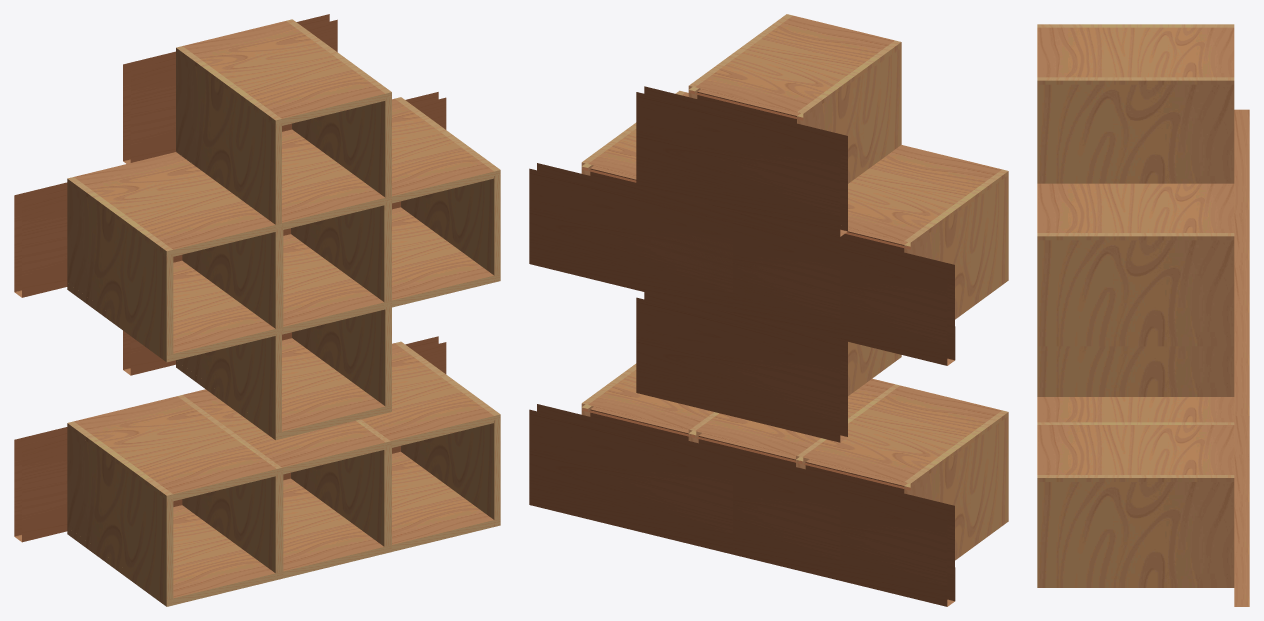
The model's file is layout_plusminus_shape_c11.fbx.
3 renders of one model, left to right at view 1: azimuth 30°, elevation 25°; view 2: azimuth 150°, elevation 25°; view 3: azimuth 270°, elevation 25°, orthographic.
Parts seen in each view (by area): view 1: Shelf-TM-00 5, Shelf-TM-00 6, Shelf-TM-00 7, Shelf-CL-01 6, Shelf-CL-01 7, Shelf-CL-01 5, Shelf-TM-00, Shelf-Back-00 (1) 5, Shelf-BM-00 3, Shelf-BM-00 7, Shelf-BM-00 6, Shelf-TM-00 1 (+35 smaller); view 2: Shelf-Back-00 (1) 5, Shelf-Back-00 (1) 3, Shelf-Back-00 (1) 1, Shelf-Back-00 (1), Shelf-Back-00 (1) 4, Shelf-Back-00 (1) 7, Shelf-Back-00 (1) 6, Shelf-Back-00 (1) 2, Shelf-TM-00 5, Shelf-TM-00 6, Shelf-TM-00 7, Shelf-CL-01 6 (+14 smaller); view 3: Shelf-CR-01 1, Shelf-CR-01 5, Shelf-CR-01, Shelf-TM-00 5, Shelf-TM-00, Shelf-TM-00 1, Shelf-CR-01 3, Shelf-TM-00 2, Shelf-Back-00 (1) 5, Shelf-CR-00 (1) 5, Shelf-CR-00 1, Shelf-CR-00 (1) 1 (+12 smaller).
Part boxes in pixels (<box>): Shelf-TM-00 5: <box>183,21,385,125</box>; Shelf-TM-00 6: <box>74,396,275,501</box>; Shelf-TM-00 7: <box>74,152,275,256</box>; Shelf-CL-01 6: <box>67,427,173,599</box>; Shelf-CL-01 7: <box>67,183,173,355</box>; Shelf-CL-01 5: <box>176,52,281,224</box>; Shelf-TM-00: <box>361,343,493,447</box>; Shelf-Back-00 (1) 5: <box>123,14,337,163</box>; Shelf-BM-00 3: <box>282,338,385,438</box>; Shelf-BM-00 7: <box>173,260,275,360</box>; Shelf-BM-00 6: <box>173,505,275,605</box>; Shelf-TM-00 1: <box>392,98,493,203</box>; Shelf-Back-00 (1) 5: <box>636,86,847,236</box>; Shelf-Back-00 (1) 3: <box>636,292,847,442</box>; Shelf-Back-00 (1) 1: <box>529,163,740,313</box>; Shelf-Back-00 (1): <box>529,404,740,554</box>; Shelf-Back-00 (1) 4: <box>636,189,847,339</box>; Shelf-Back-00 (1) 7: <box>743,215,955,365</box>; Shelf-Back-00 (1) 6: <box>751,456,955,606</box>; Shelf-Back-00 (1) 2: <box>639,430,847,580</box>; Shelf-TM-00 5: <box>695,15,894,118</box>; Shelf-TM-00 6: <box>802,385,1001,488</box>; Shelf-TM-00 7: <box>845,145,1001,247</box>; Shelf-CL-01 6: <box>904,416,1008,553</box>; Shelf-CR-01 1: <box>1037,240,1234,339</box>; Shelf-CR-01 5: <box>1037,84,1234,183</box>; Shelf-CR-01: <box>1037,482,1234,580</box>; Shelf-TM-00 5: <box>1037,27,1234,77</box>; Shelf-TM-00: <box>1037,425,1234,474</box>; Shelf-TM-00 1: <box>1037,183,1234,232</box>; Shelf-CR-01 3: <box>1037,346,1234,389</box>; Shelf-TM-00 2: <box>1037,397,1234,422</box>; Shelf-Back-00 (1) 5: <box>1234,109,1249,209</box>; Shelf-CR-00 (1) 5: <box>1037,77,1234,84</box>; Shelf-CR-00 1: <box>1037,339,1234,346</box>; Shelf-CR-00 (1) 1: <box>1037,233,1234,240</box>.
Size of the model in its own units: 197 by 204 by 86.3.
